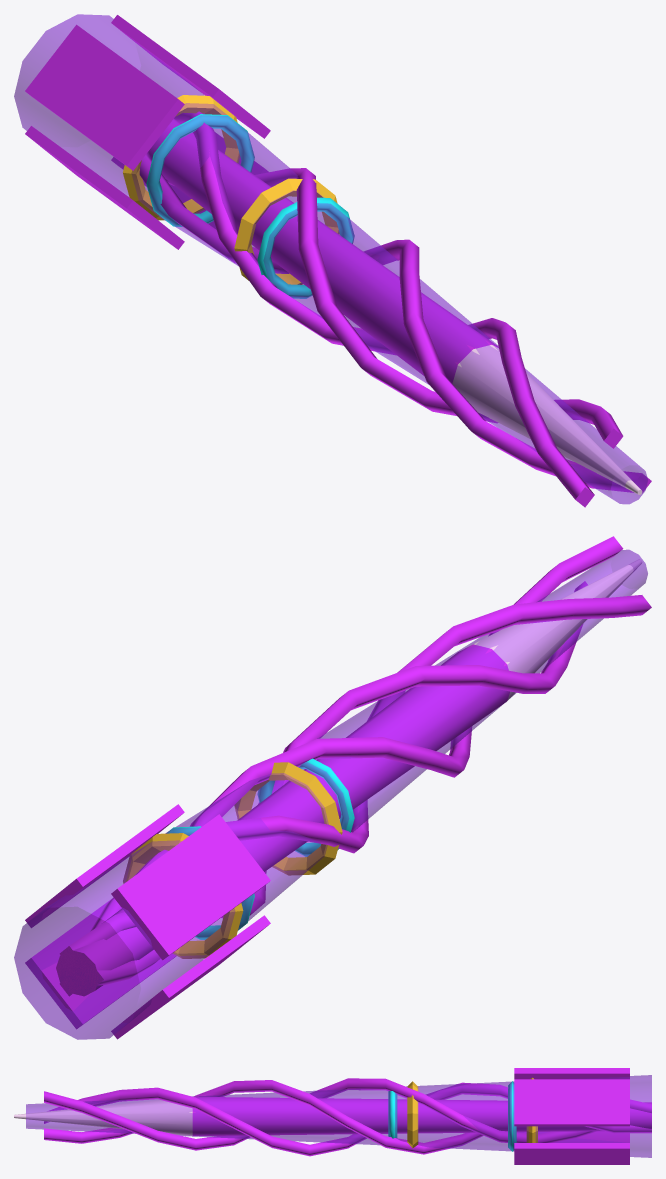
File: tachyon_lance.obj
3 renders of one model, top to bottom at view 1: azimuth 30°, elevation 25°; view 2: azimuth 150°, elevation 25°; view 3: azimuth 270°, elevation 25°, orthographic. The views are drawn at different scales.
Parts seen in each view (by area): view 1: Tachyon_Lance_Mesh; view 2: Tachyon_Lance_Mesh; view 3: Tachyon_Lance_Mesh.
Boxes of the visible parts, <box> form: Tachyon_Lance_Mesh: <box>14,14,651,507</box>; Tachyon_Lance_Mesh: <box>14,536,651,1039</box>; Tachyon_Lance_Mesh: <box>14,1068,651,1164</box>.
Size of the model in its own units: 0.4738 by 0.4738 by 3.2.
